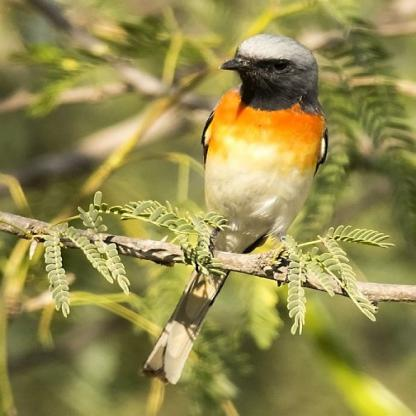Burung: (138, 34, 328, 385)
